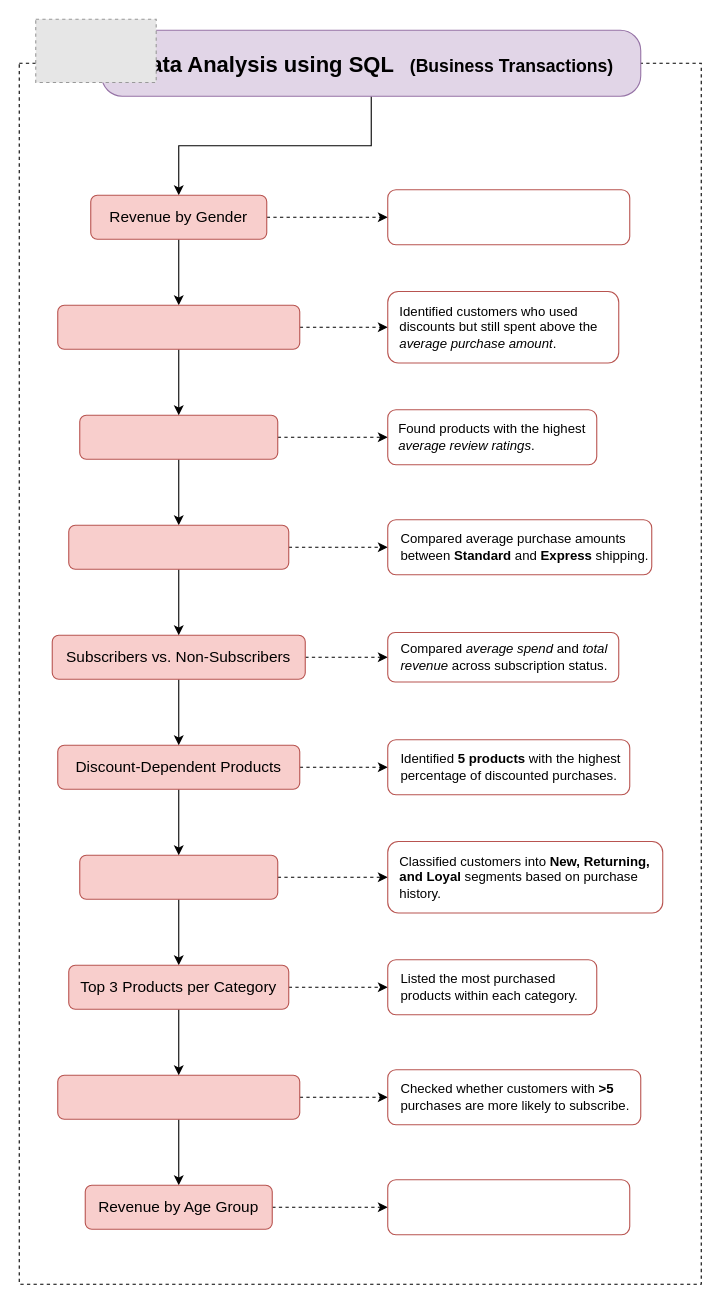
Image size: 721x1304. Some labels were removed from this diagram. Grey dashed boxes stand in for pictures. The shapes that lost their labels are listed below. From the top down, each one's centre as x and y in pixels, then its label:
At [508,217]: "Compared total revenue generated by male vs. female customers.".
At [178,326]: "High-Spending Discount Users".
At [178,436]: "Top 5 Products by Rating".
At [178,546]: "Shipping Type Comparison".
At [178,876]: "Customer Segmentation".
At [178,1096]: "Repeat Buyers & Subscriptions".
At [508,1207]: "Calculated total revenue contribution of each age group.".
